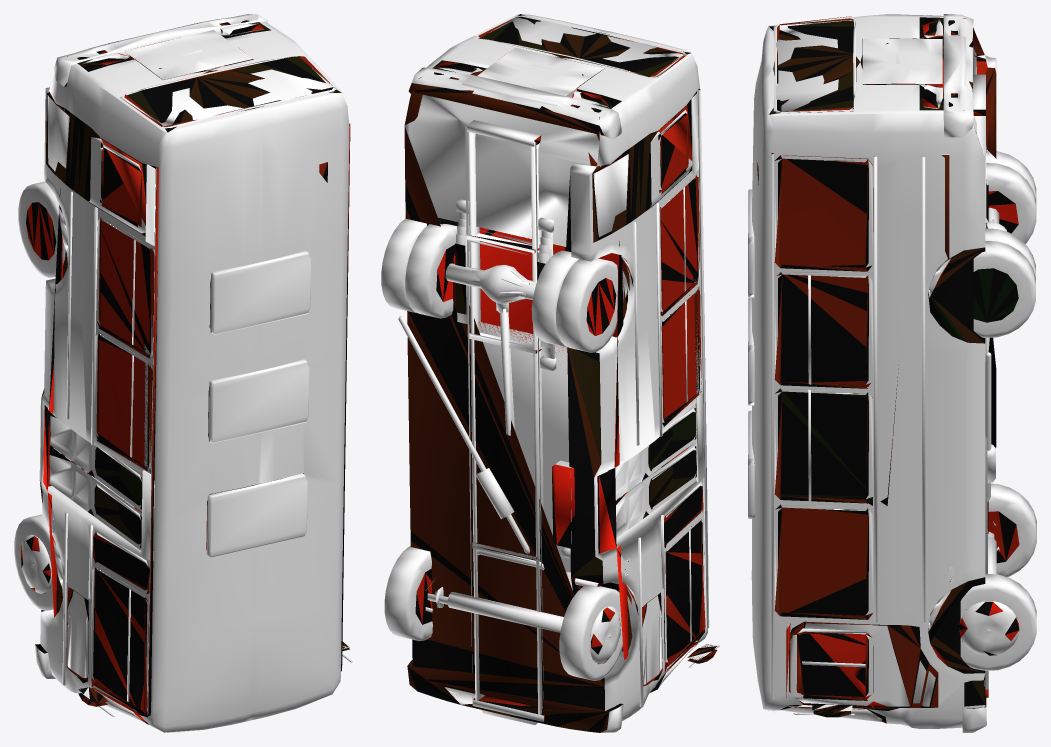
The picture shows the model from 3 angles, left to right: view 1: azimuth 30°, elevation 25°; view 2: azimuth 150°, elevation 25°; view 3: azimuth 270°, elevation 25°; orthographic projection. The views are drawn at different scales.
Bounding box in the file's own units: 297 × 695 × 286.
